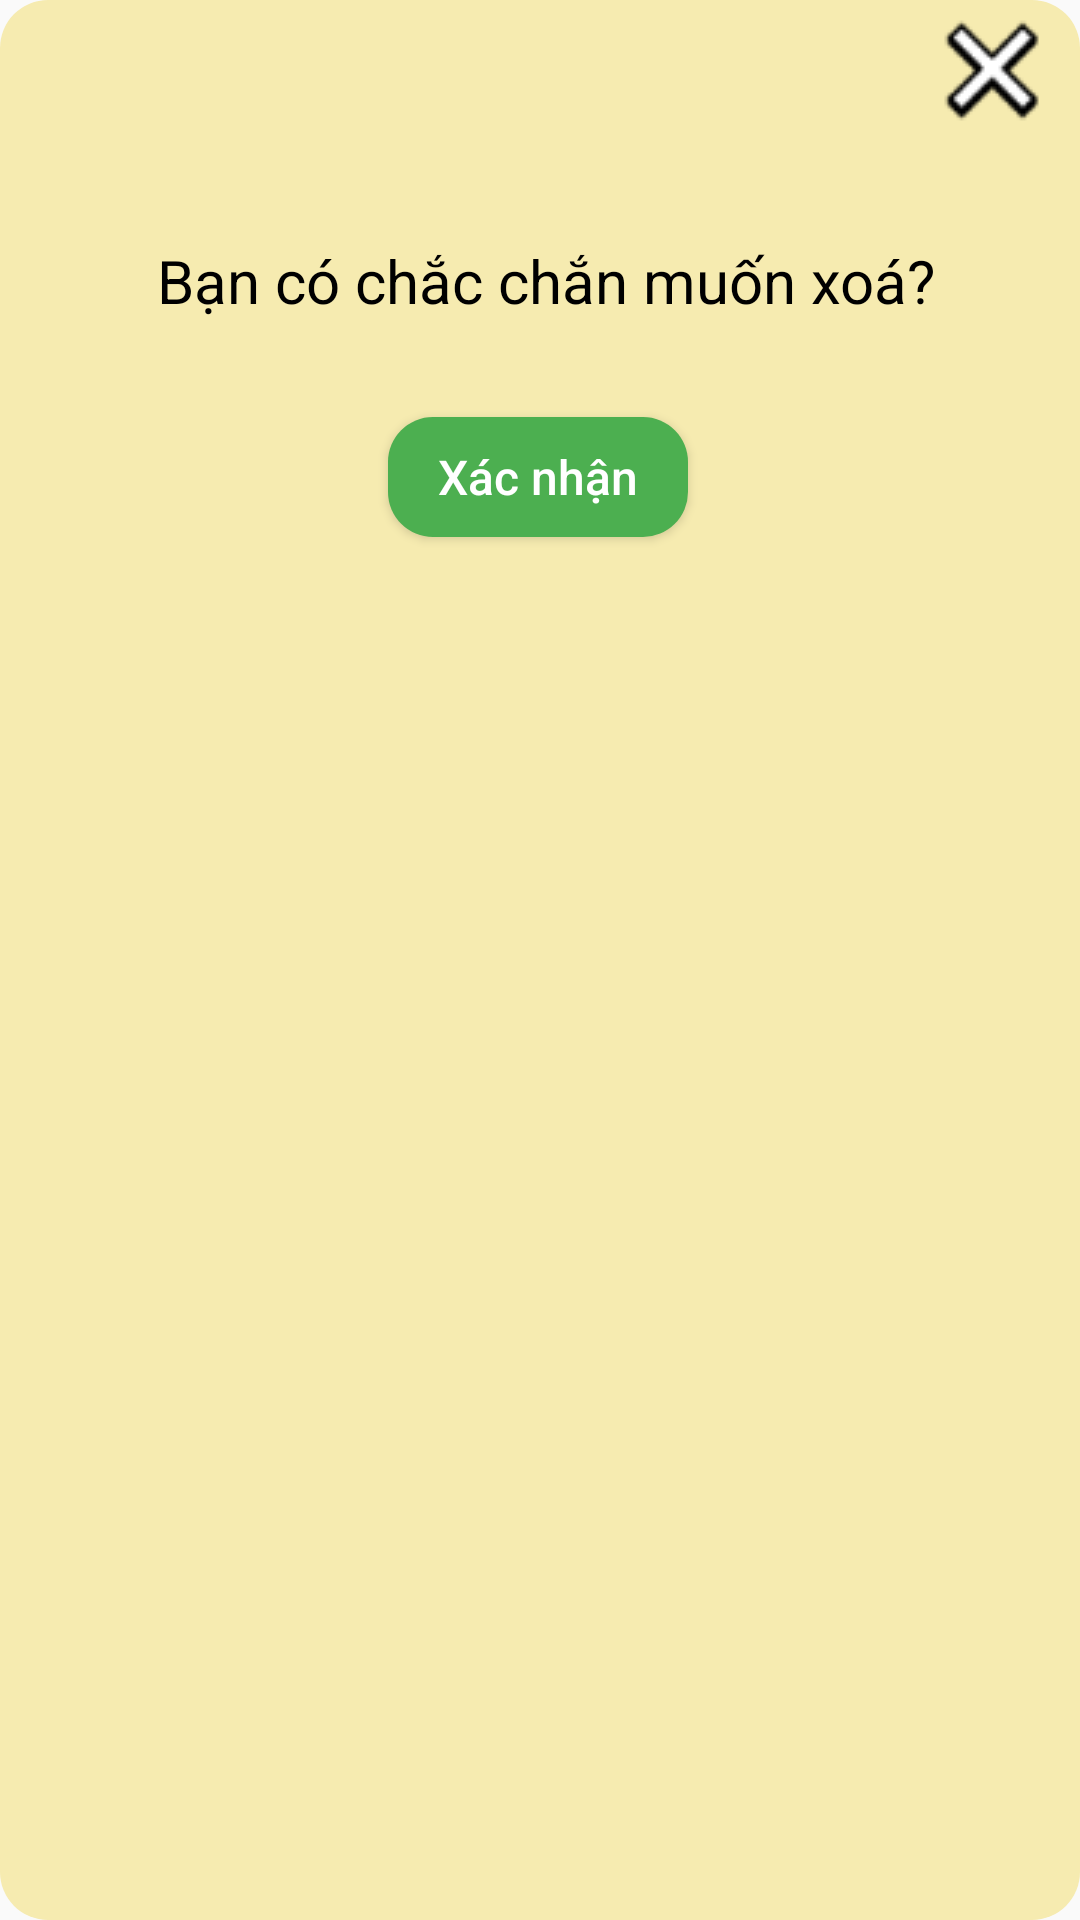

Locate icon controls on the screen. Image size 1080px×1920px, boxes as [x1,y1,x2,y2].
close: [945,21,1039,120]
